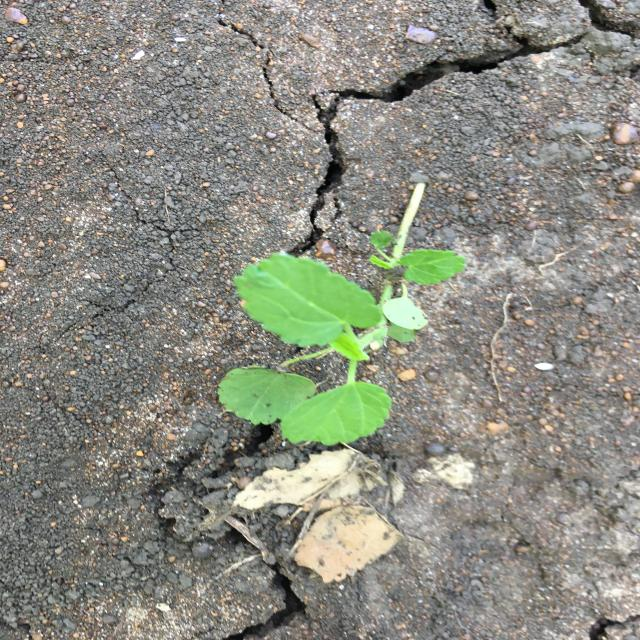PricklySida: (216, 230, 469, 446)
